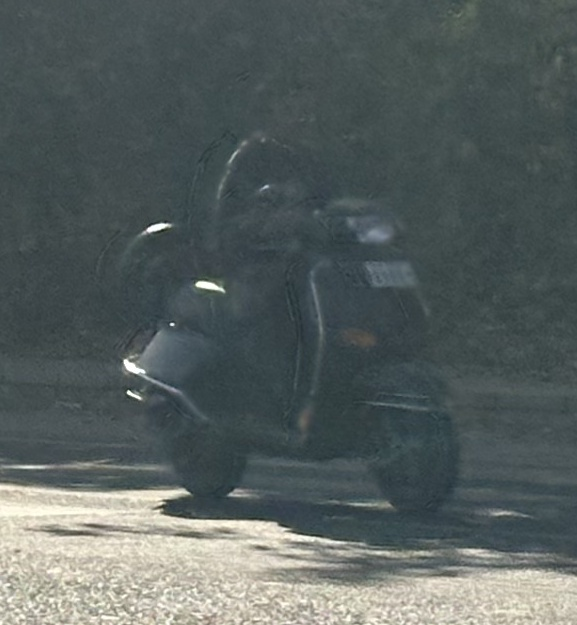NoHelmet: (98, 110, 481, 521), (238, 67, 329, 146)
